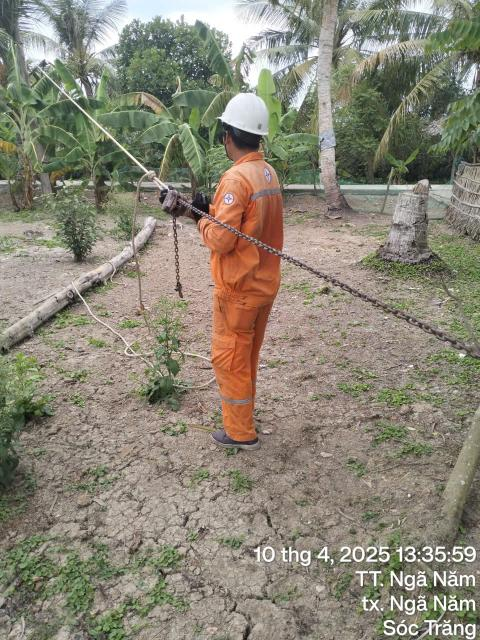gloves: (153, 164, 182, 210), (189, 188, 216, 224)
helmet: (216, 88, 284, 139)
shoes: (206, 428, 267, 457)
